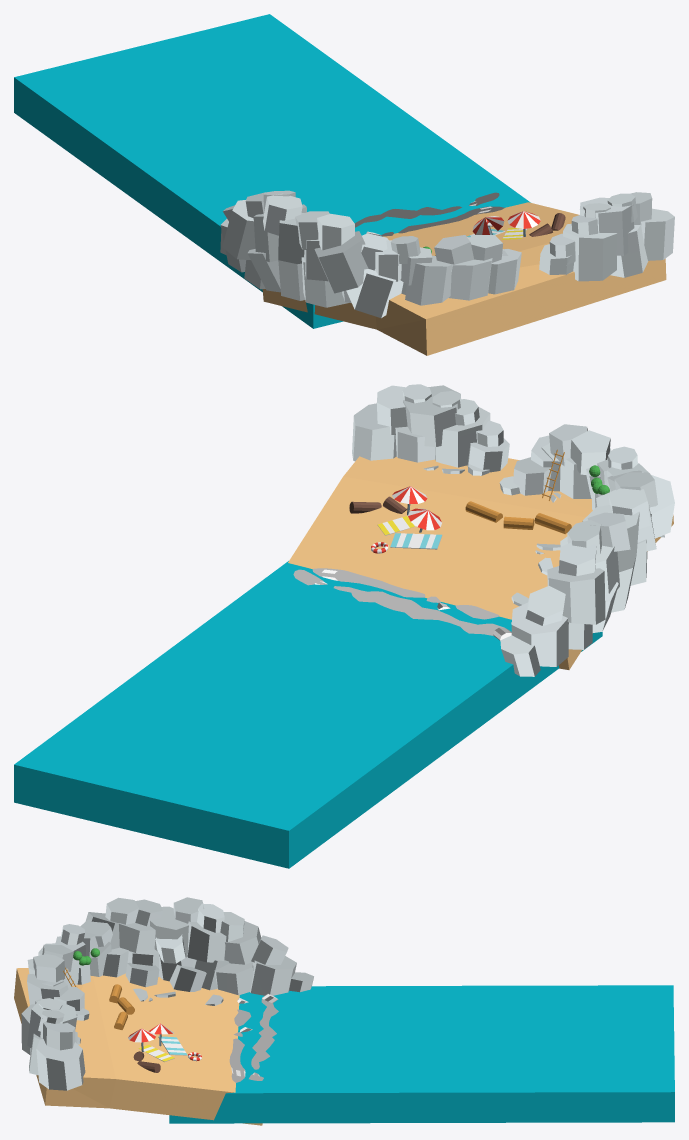
Rendered from node.003_lev2.glb.
3 views of the same model, one above another, from view 1: azimuth 30°, elevation 25°; view 2: azimuth 150°, elevation 25°; view 3: azimuth 270°, elevation 25° (orthographic). The views are drawn at different scales.
Visible parts, largest first — view 1: node.003_lev2; view 2: node.003_lev2; view 3: node.003_lev2.
Part boxes in pixels (bbox=[...]): node.003_lev2: bbox=[14, 14, 674, 355]; node.003_lev2: bbox=[14, 384, 674, 868]; node.003_lev2: bbox=[14, 897, 674, 1125].
Bounding box in the file's own units: 11.34 × 4.39 × 22.65.
